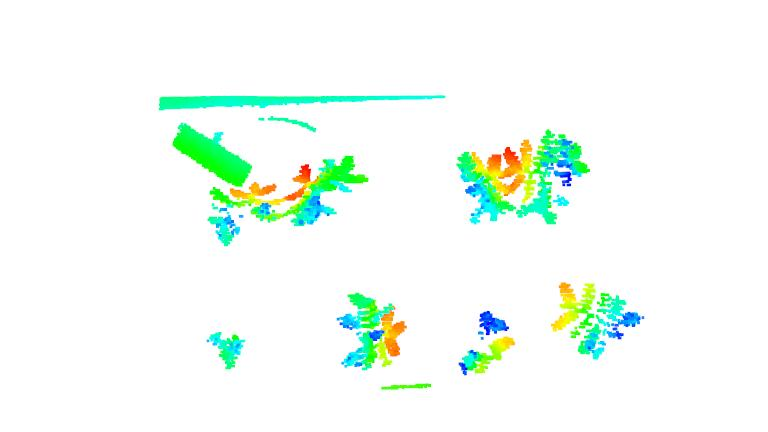chickpea: (507, 128, 591, 226), (554, 279, 645, 366), (287, 150, 373, 229), (334, 292, 405, 371), (205, 180, 285, 249), (456, 147, 516, 228), (454, 308, 515, 379), (203, 327, 248, 369)
